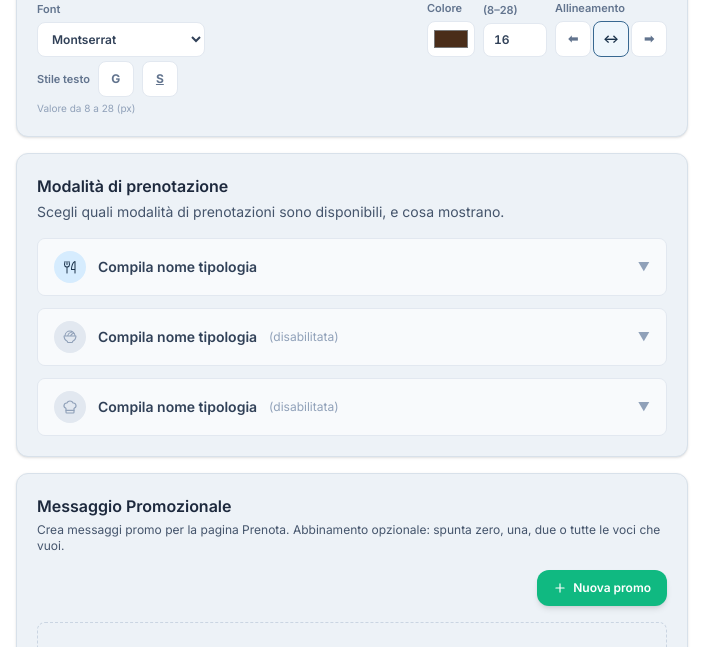
Scenario: FIX 9 §3A — compilable_category_keys toggle admin › toggle compilabile assente quando menù personalizzabile OFF (card fissa)
(page scrolled)
What coordinates should you click on to do the following:
click the button "Compila nome tipologia ▼"
I would click on:
 (70, 267)
Its box is [38,239,666,295].
(page scrolled)
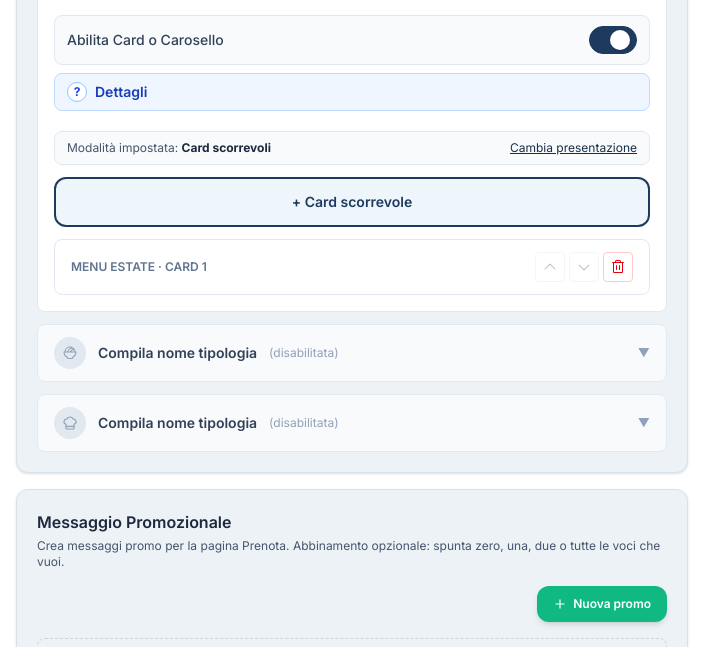
Check: the text "Abilita Card o Carosello" is shown, box [67,30,224,50]
Check: the text "Menu Estate · Card 1" is shown, box [71,259,207,274]
What coordinates should you click on to do the following:
click the button "Menu Estate · Card 1"
I would click on:
 (139, 266)
Its box is [71,259,523,275].
(page scrolled)
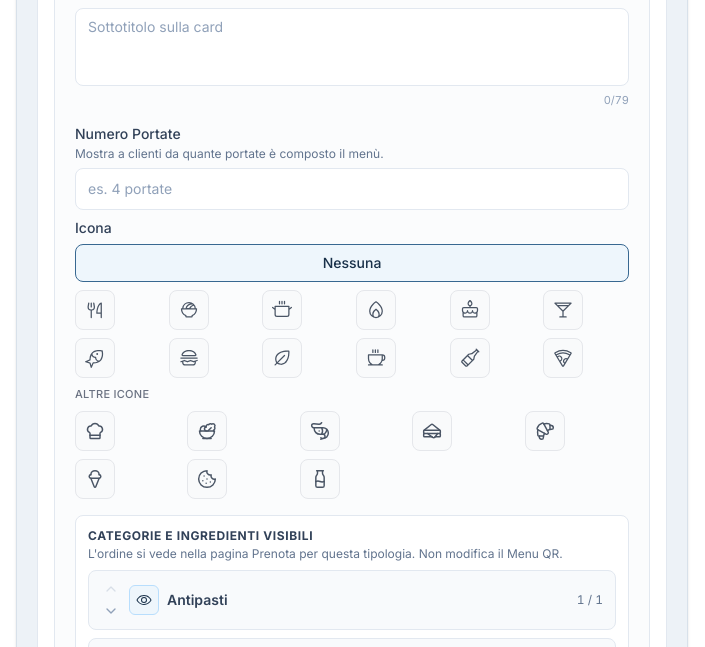
Check: the text "Categorie e ingredienti visibili" is shown, box [88,528,313,543]
